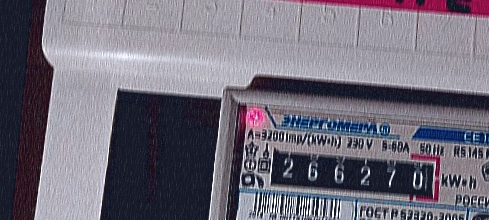0: (407, 167, 422, 188)
2: (277, 155, 294, 177), (355, 163, 370, 184)
6: (303, 158, 318, 180), (330, 161, 344, 182)
7: (381, 165, 394, 185)
screen: (258, 136, 446, 206)
